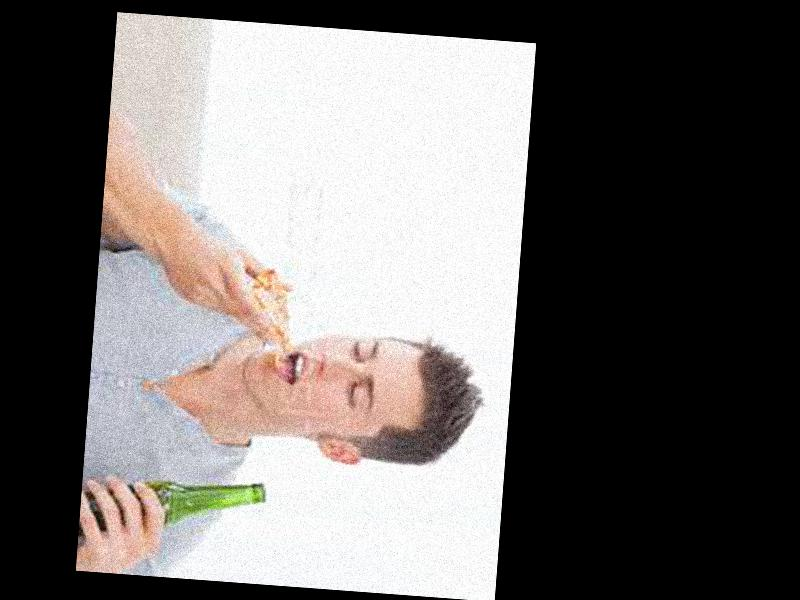Beer: (77, 469, 266, 552)
